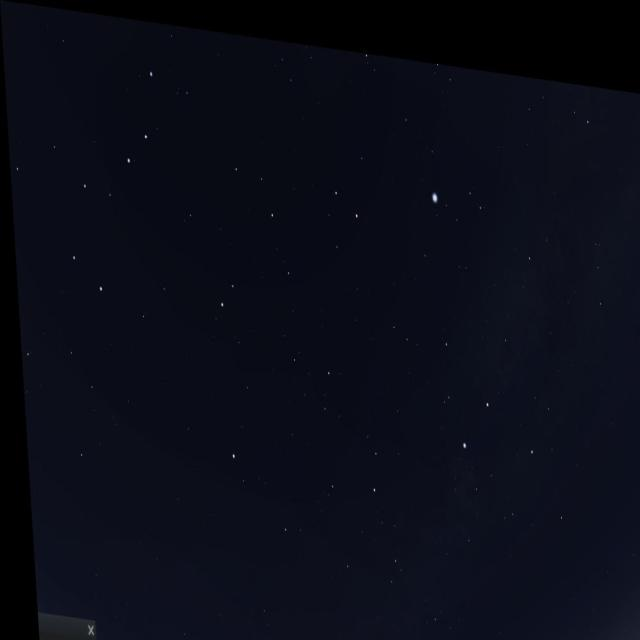cygnus: (428, 221, 554, 458)
lyra: (426, 148, 494, 234)
ursa_major: (55, 44, 189, 302)
